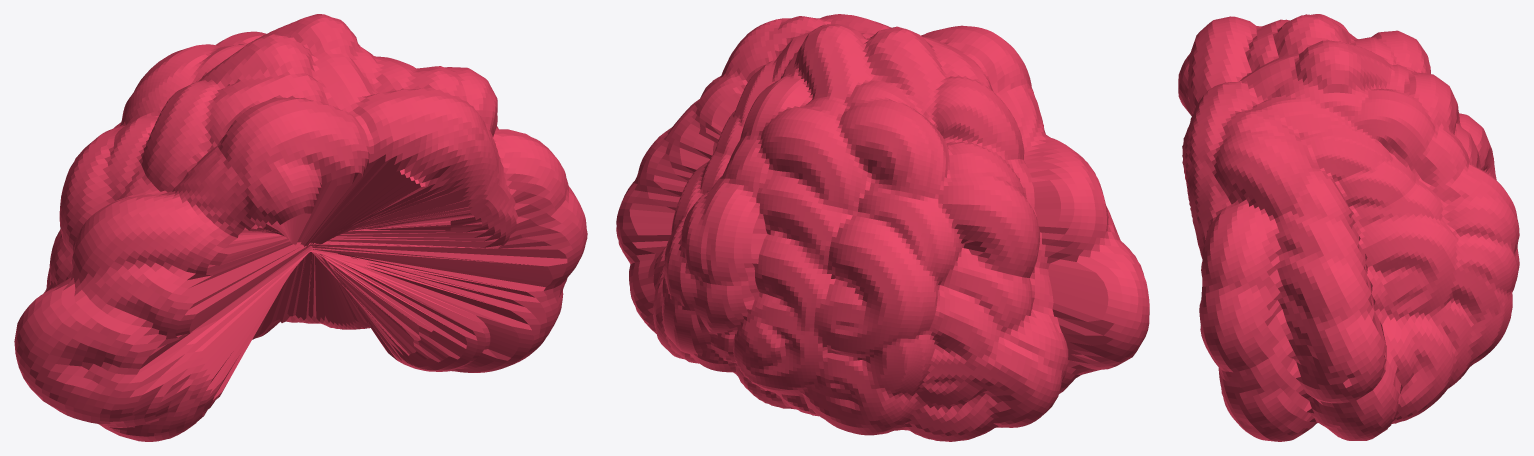
The model's file is hair for chub.fbx.
3 views of the same model, side by side, from view 1: azimuth 30°, elevation 25°; view 2: azimuth 150°, elevation 25°; view 3: azimuth 270°, elevation 25° (orthographic). The views are drawn at different scales.
Parts seen in each view (by area): view 1: chub1 afro; view 2: chub1 afro; view 3: chub1 afro.
Part boxes in pixels (box(x1,y1,x2,y2)): chub1 afro: box(14, 14, 587, 441); chub1 afro: box(616, 14, 1149, 441); chub1 afro: box(1178, 14, 1519, 441).
Size of the model in its own units: 217 by 144 by 131.
